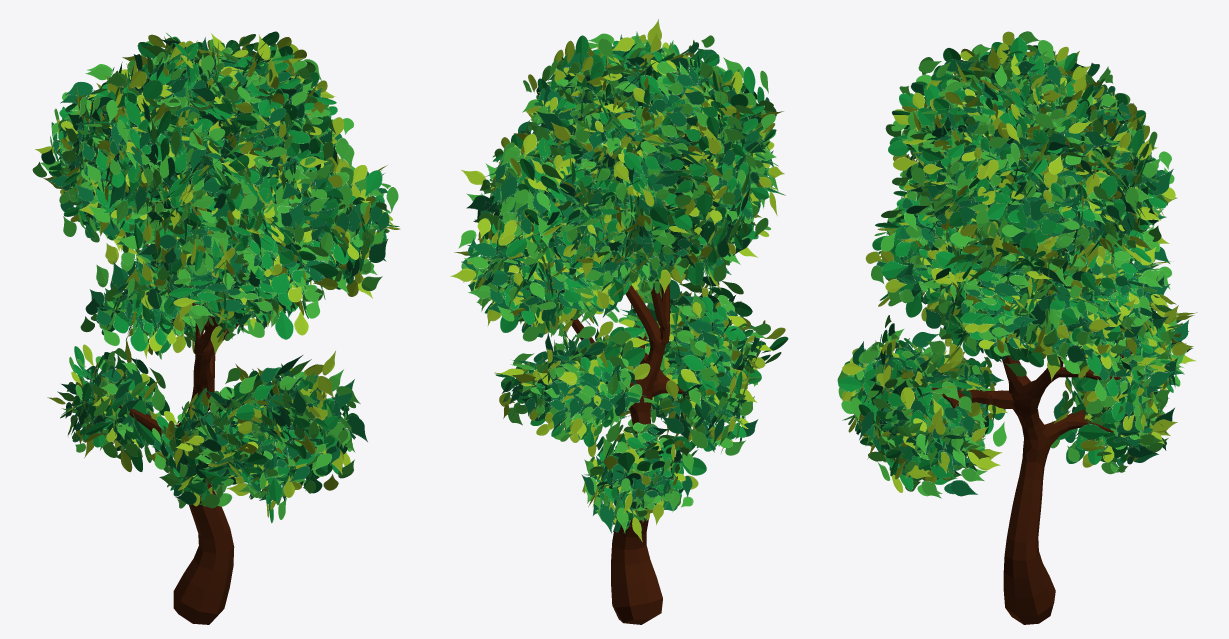
Rendered from Tree01.fbx.
3 renders of one model, left to right at view 1: azimuth 30°, elevation 25°; view 2: azimuth 150°, elevation 25°; view 3: azimuth 270°, elevation 25°, orthographic. The views are drawn at different scales.
Parts seen in each view (by area): view 1: foliage.008; view 2: foliage.008; view 3: foliage.008.
Boxes of the visible parts, x1,y1,x2,y2 form: foliage.008: (32,31,400,624); foliage.008: (450,19,788,624); foliage.008: (837,31,1197,624).
Size of the model in its own units: 748 by 1251 by 760.
